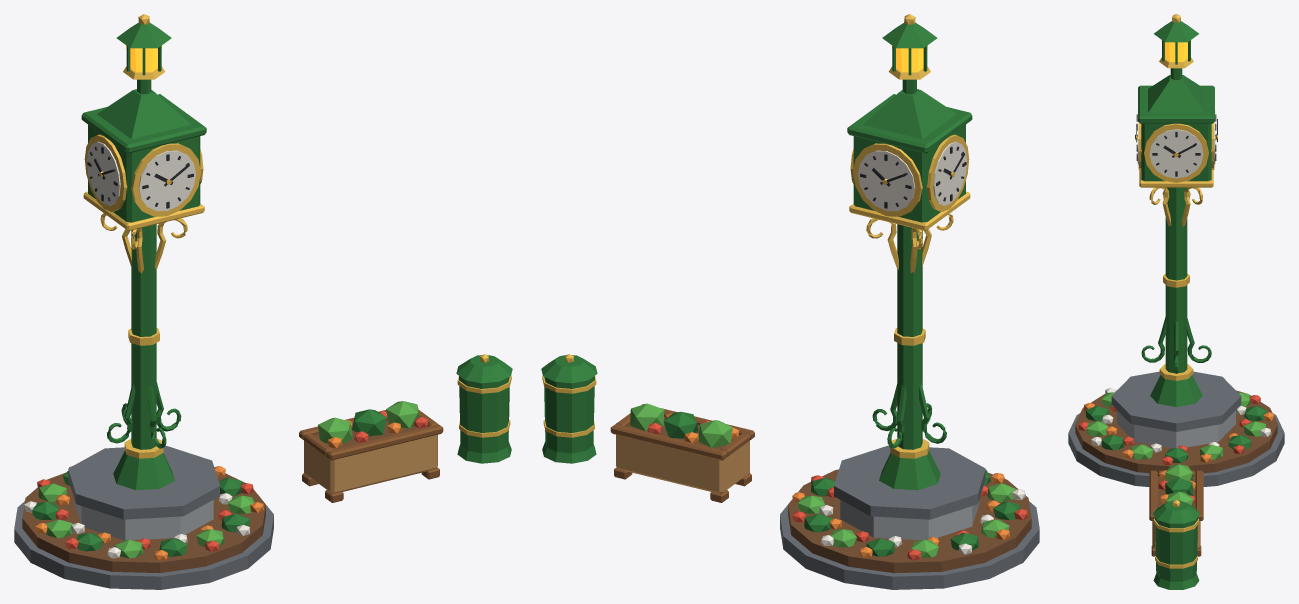
The model's file is town-square-clock.glb.
3 renders of one model, left to right at view 1: azimuth 30°, elevation 25°; view 2: azimuth 150°, elevation 25°; view 3: azimuth 270°, elevation 25°, orthographic. The views are drawn at different scales.
Parts seen in each view (by area): view 1: Clock_PedestalCap, Clock_FlowerBed, Clock_Plinth, Clock_Shaft, Planter_Box, Planter, Bin_Body, Clock_Pedestal, Clock_Roof, Clock_Face_Front, Clock_CaseCornice, Clock_Case (+8 smaller); view 2: Clock_PedestalCap, Clock_FlowerBed, Clock_Plinth, Clock_Shaft, Planter_Box, Bin_Body, Planter, Clock_Pedestal, Clock_Roof, Clock_Face_Back, Clock_CaseCornice, Clock_Case (+8 smaller); view 3: Clock_PedestalCap, Clock_FlowerBed, Clock_Shaft, Clock_Plinth, Bin_Body, Clock_Pedestal, Clock_Face_Right, Clock_Roof, Clock_CaseCornice, Planter, Clock_Case, Clock_ColumnFoot (+14 smaller).
Boxes of the visible parts, x1,y1,x2,y2 form: Clock_PedestalCap: (68, 445, 219, 519); Clock_FlowerBed: (22, 472, 265, 573); Clock_Plinth: (14, 496, 273, 589); Clock_Shaft: (131, 224, 156, 449); Planter_Box: (304, 434, 437, 493); Planter: (302, 401, 439, 502); Bin_Body: (459, 376, 509, 453); Clock_Pedestal: (74, 500, 213, 540); Clock_Roof: (97, 89, 190, 139); Clock_Face_Front: (138, 150, 195, 211); Clock_CaseCornice: (81, 94, 206, 153); Clock_Case: (88, 125, 200, 222); Clock_PedestalCap: (834, 445, 985, 519); Clock_FlowerBed: (788, 469, 1031, 573); Clock_Plinth: (780, 501, 1039, 589); Clock_Shaft: (897, 224, 922, 449); Planter_Box: (616, 434, 749, 493); Bin_Body: (544, 376, 594, 453); Planter: (614, 403, 751, 502); Clock_Pedestal: (840, 500, 979, 540); Clock_Roof: (863, 89, 956, 139); Clock_Face_Back: (858, 150, 915, 211); Clock_CaseCornice: (847, 94, 972, 153); Clock_Case: (853, 125, 965, 222); Clock_PedestalCap: (1111, 371, 1241, 431); Clock_FlowerBed: (1075, 390, 1277, 473); Clock_Shaft: (1165, 187, 1187, 373); Clock_Plinth: (1068, 413, 1284, 486); Bin_Body: (1155, 517, 1197, 581); Clock_Pedestal: (1117, 410, 1235, 448); Clock_Face_Right: (1149, 129, 1203, 178); Clock_Roof: (1148, 75, 1204, 112); Clock_CaseCornice: (1138, 85, 1214, 123); Planter: (1151, 464, 1201, 556); Clock_Case: (1141, 123, 1211, 181); Clock_ColumnFoot: (1150, 375, 1202, 406).
Size of the model in its own units: 16.84 by 17.55 by 8.
